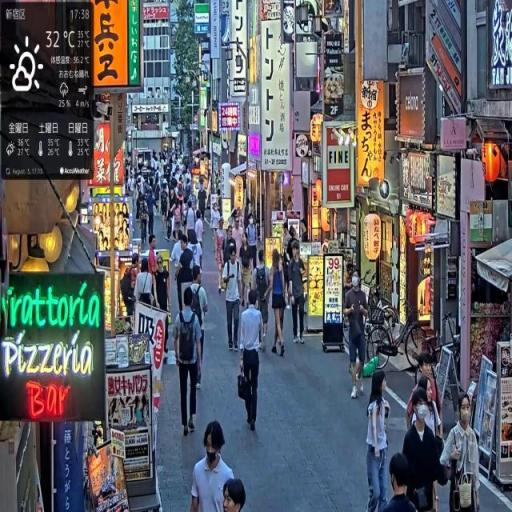person: (404, 390, 448, 512), (440, 395, 482, 512), (173, 289, 204, 441), (238, 288, 266, 436), (191, 421, 235, 512), (365, 365, 392, 512), (344, 270, 371, 401), (223, 243, 246, 353), (381, 452, 420, 512), (190, 268, 209, 391), (270, 249, 290, 360), (288, 243, 308, 348), (252, 250, 273, 348), (240, 234, 256, 311), (221, 477, 247, 512), (147, 188, 158, 243)
